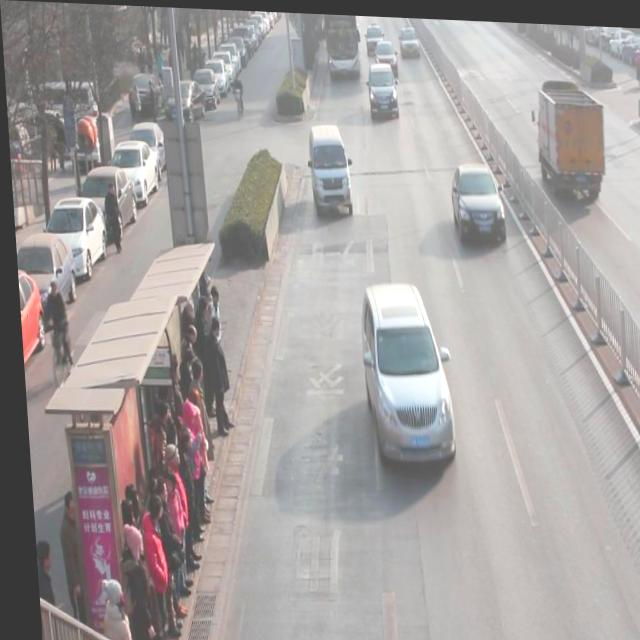bus: (536, 78, 607, 201)
car: (356, 280, 452, 468), (448, 159, 506, 247), (366, 60, 399, 119), (374, 37, 398, 75)
truck: (306, 122, 351, 216)
van: (325, 11, 362, 81)
